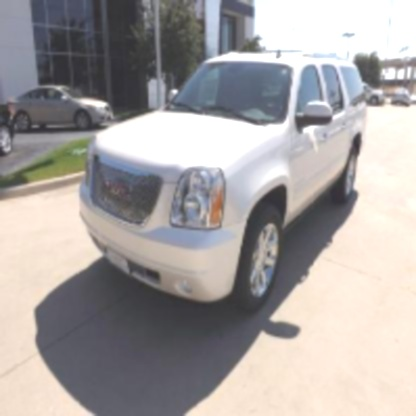Vehicle: (71, 51, 372, 303)
